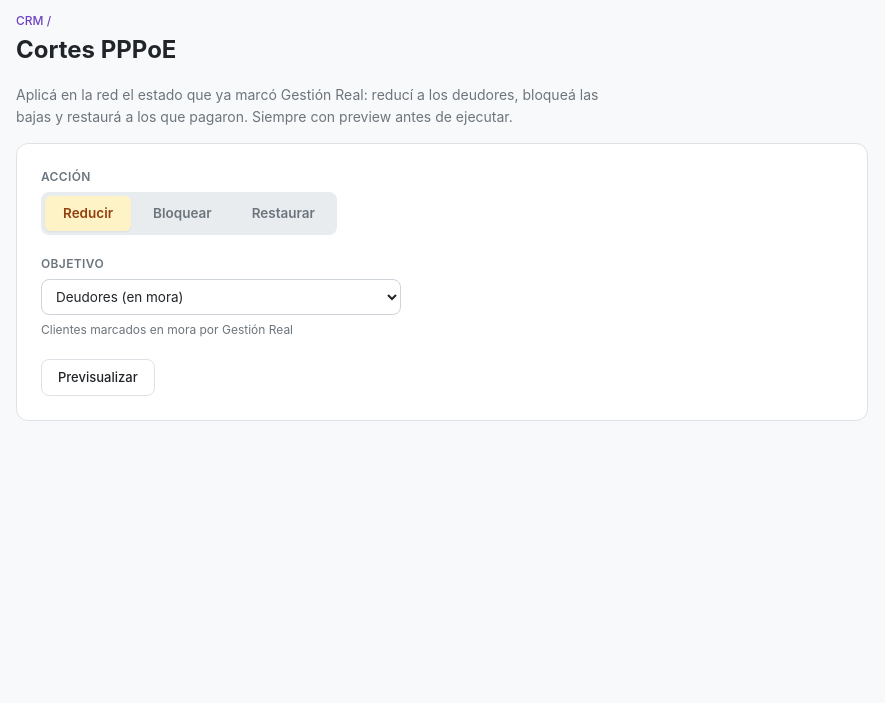
Test: S2: preview con pendientes (nasId null) › el desglose por router muestra "Router —" para el grupo sin router y nunca "Router null"
Click the button "Previsualizar": point(98, 377) [41, 359, 155, 396]
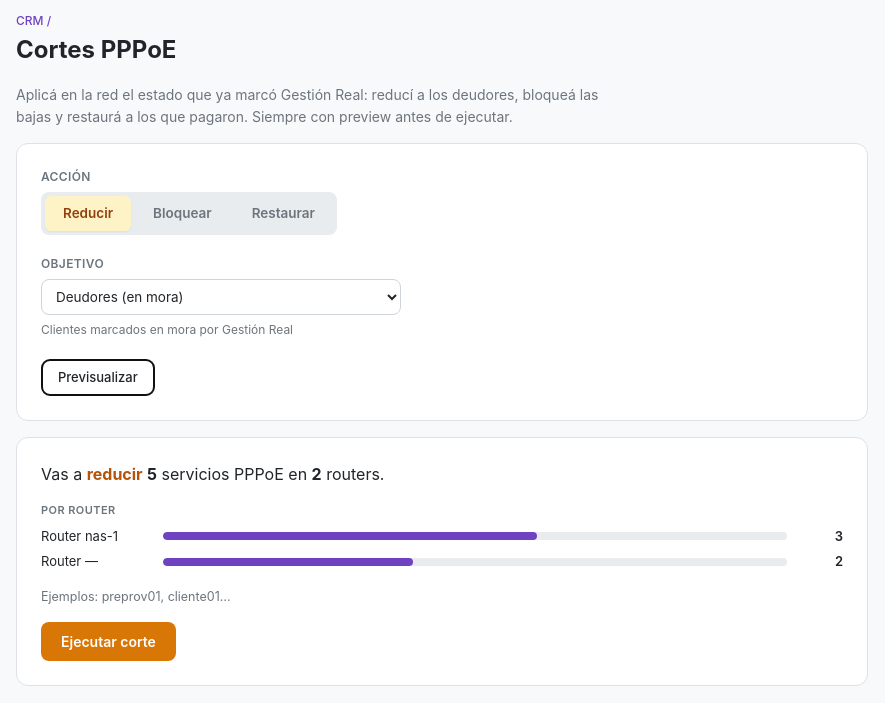
Check: the text "Router nas-1" is shown, box [41, 528, 118, 544]
Check: the text "Router —" is shown, box [41, 553, 98, 569]
Check: the text "Ejemplos: preprov01, cliente01…" is shown, box [41, 589, 230, 604]
